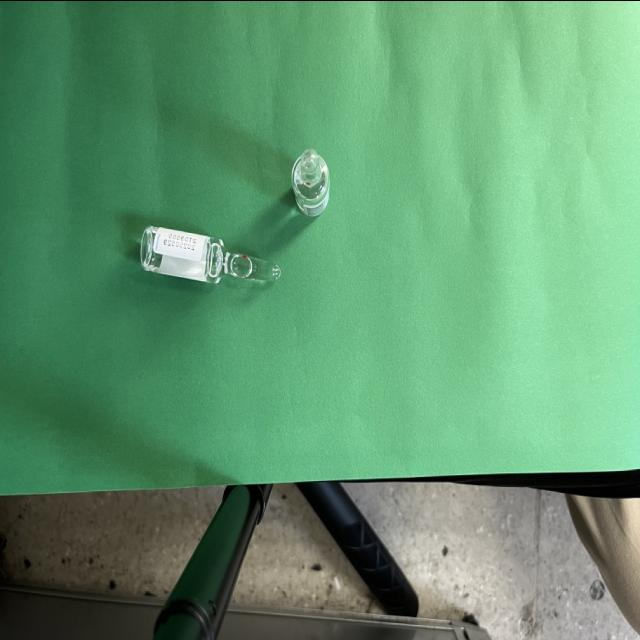Ampoules: (139, 225, 280, 283), (291, 147, 330, 216)
